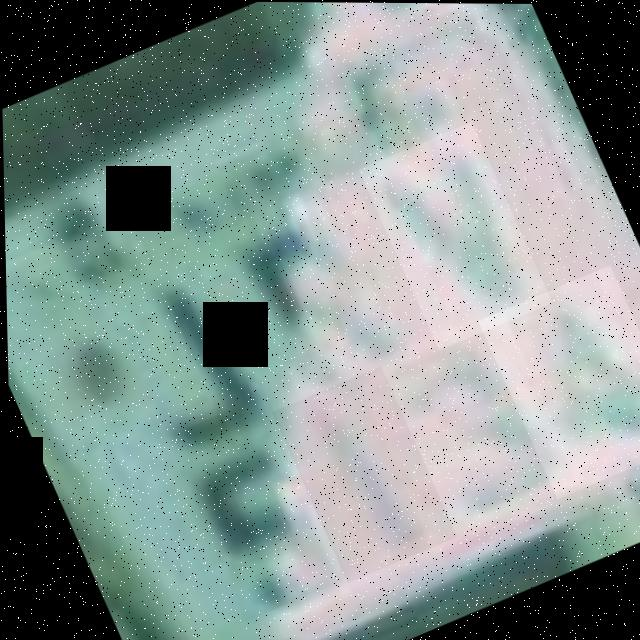1: (269, 364, 456, 582)
3: (349, 305, 583, 554)
4: (475, 263, 640, 498)
5: (146, 405, 347, 629)
J: (82, 240, 283, 464)
N: (357, 120, 552, 350)
